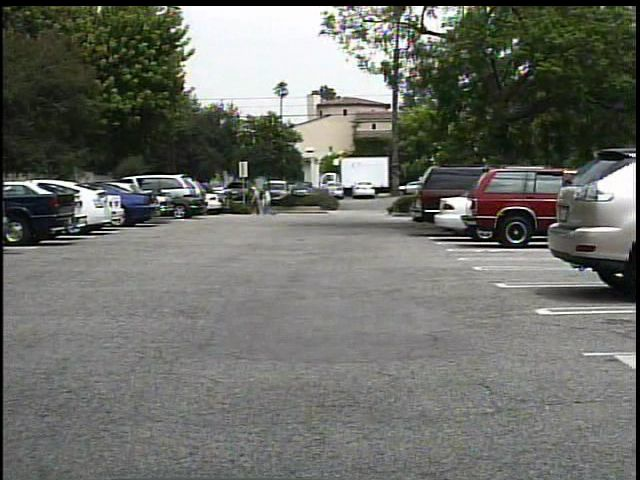person: (248, 184, 263, 216), (263, 184, 277, 218), (257, 185, 269, 216)
